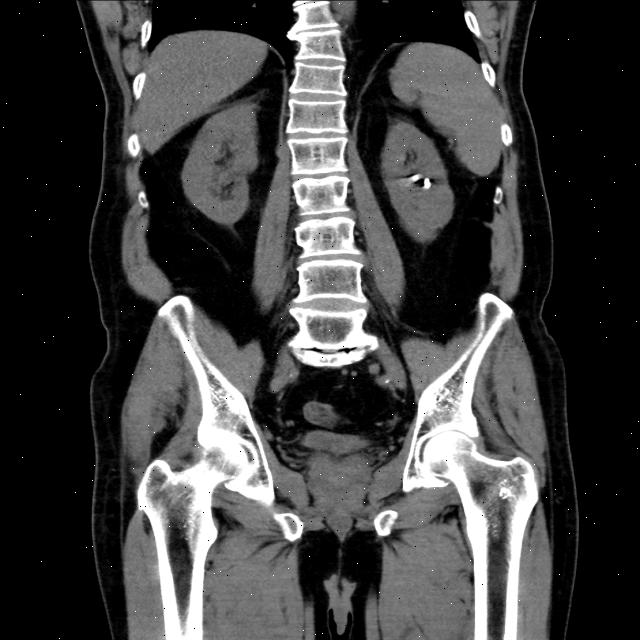kidneystone: (416, 178, 431, 189)
